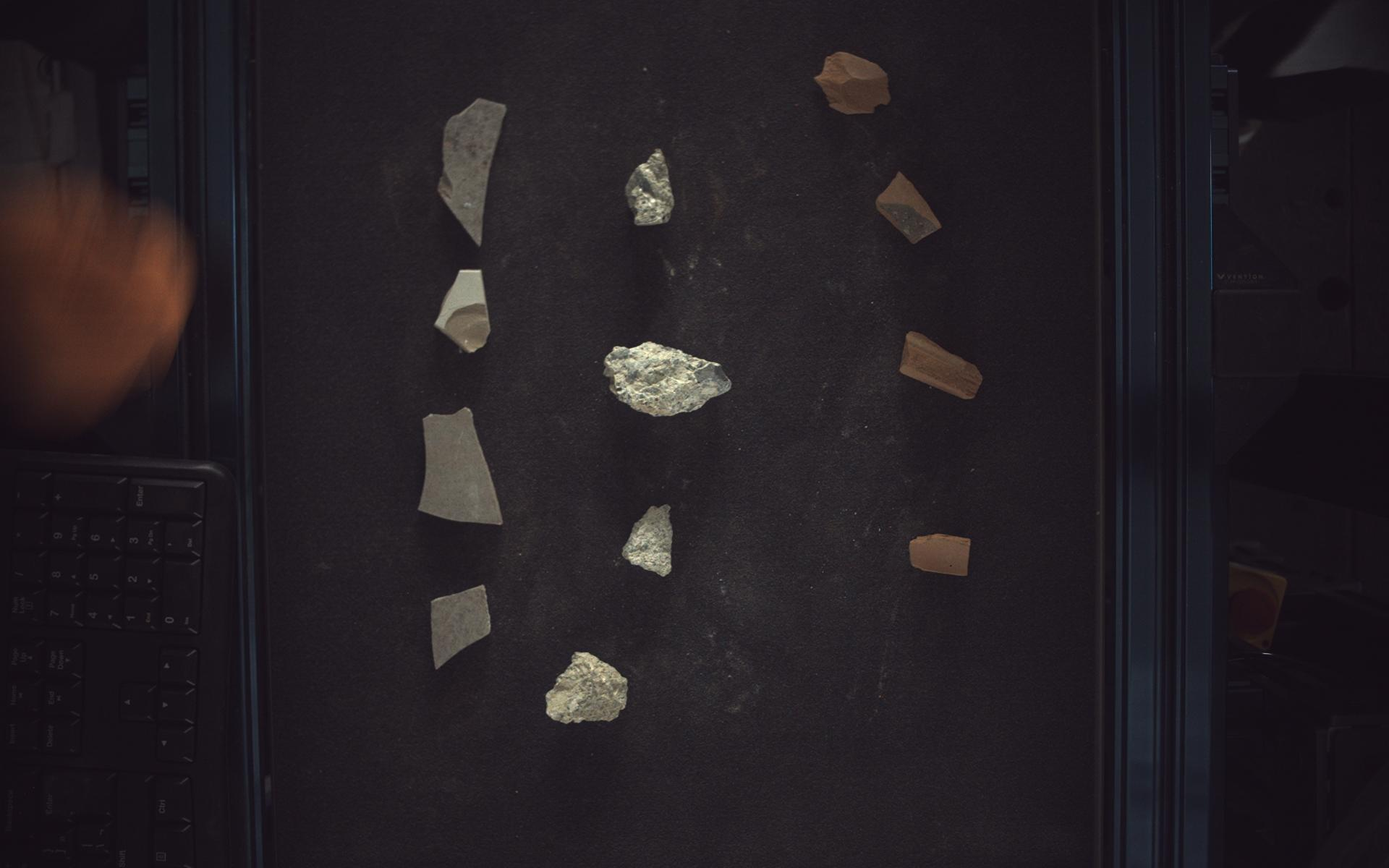brick: (901, 331, 985, 399), (816, 50, 892, 113), (878, 171, 943, 243), (912, 535, 972, 576)
concrete: (605, 341, 732, 416), (546, 654, 628, 725), (626, 148, 675, 225), (623, 505, 674, 577)
tile: (438, 97, 506, 245), (419, 407, 503, 525), (431, 587, 490, 670), (435, 269, 490, 353)
